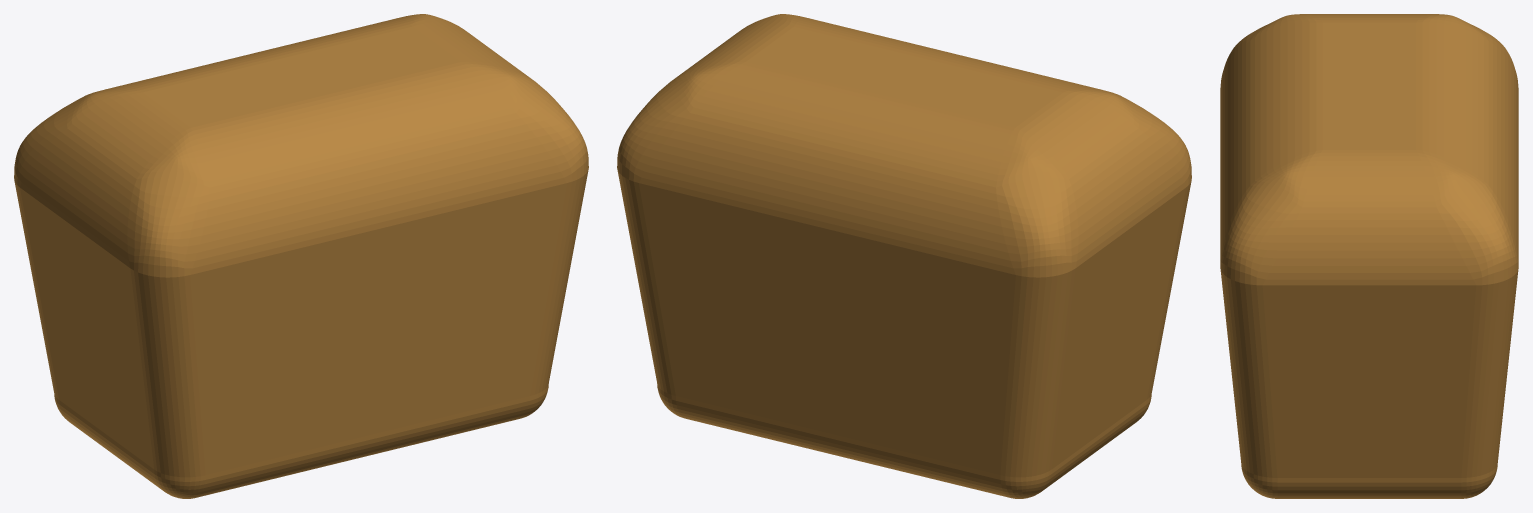
The model's file is Хлеб целый.fbx.
The picture shows the model from 3 angles, left to right: view 1: azimuth 30°, elevation 25°; view 2: azimuth 150°, elevation 25°; view 3: azimuth 270°, elevation 25°; orthographic projection. The views are drawn at different scales.
Visible parts, largest first — view 1: Cube.003; view 2: Cube.003; view 3: Cube.003.
Part boxes in pixels (x1=…): Cube.003: x1=14, y1=14, x2=588, y2=498; Cube.003: x1=617, y1=14, x2=1191, y2=498; Cube.003: x1=1220, y1=14, x2=1518, y2=498.
Bounding box in the file's own units: 63.43 × 46.04 × 37.4.
